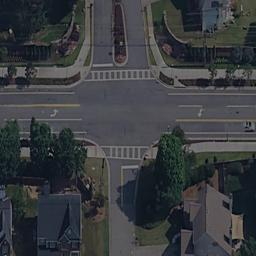Car: (241, 120, 256, 129)
Crosswalk: (80, 67, 159, 82), (98, 143, 149, 160)
Double Solid Yellow Line: (173, 118, 256, 122), (1, 103, 81, 107), (120, 169, 123, 204)
Left Turn Arrow: (196, 108, 208, 117), (49, 109, 61, 117)
Solid White Line: (3, 118, 85, 121), (1, 92, 78, 95), (4, 132, 88, 134), (159, 131, 256, 132)
Stop Line: (119, 163, 142, 171), (91, 61, 114, 67)
White Dashed Line: (174, 104, 256, 109)
